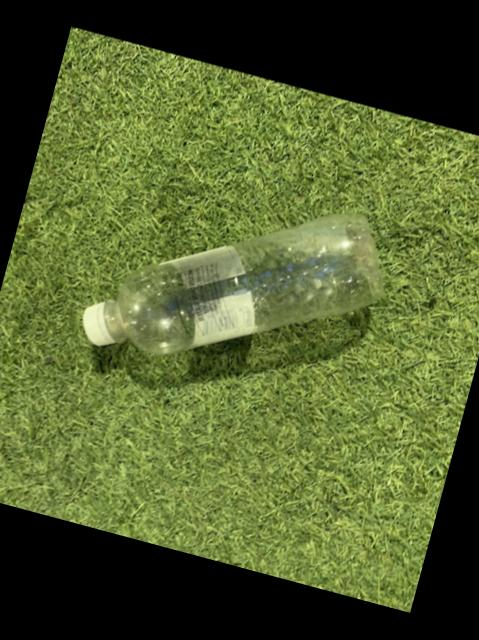plastic: (80, 212, 379, 352)
